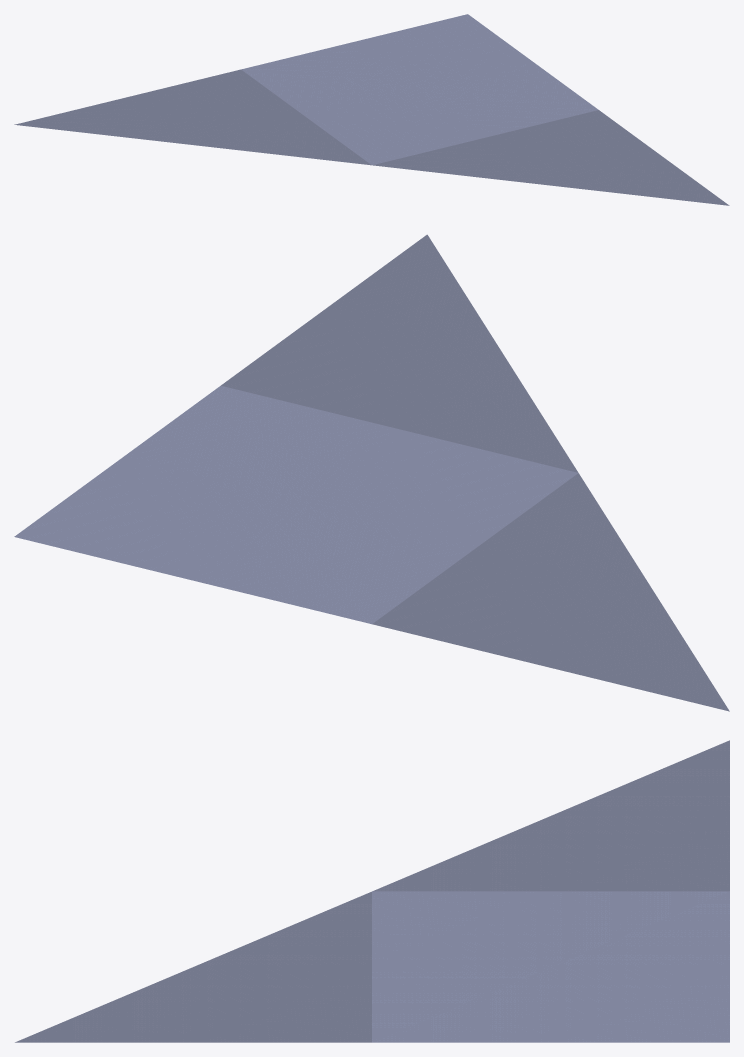
The model's file is floor-diagonal.glb.
3 views of the same model, one above another, from view 1: azimuth 30°, elevation 25°; view 2: azimuth 150°, elevation 25°; view 3: azimuth 270°, elevation 25° (orthographic). The views are drawn at different scales.
Visible parts, largest first — view 1: floor-diagonal; view 2: floor-diagonal; view 3: floor-diagonal.
Part boxes in pixels (left/top/right/bottom): floor-diagonal: left=14, top=14, right=729, bottom=205; floor-diagonal: left=14, top=234, right=729, bottom=711; floor-diagonal: left=15, top=740, right=729, bottom=1042.
Bounding box in the file's own units: 1 × 0 × 1.
1 material, 1 textured.
